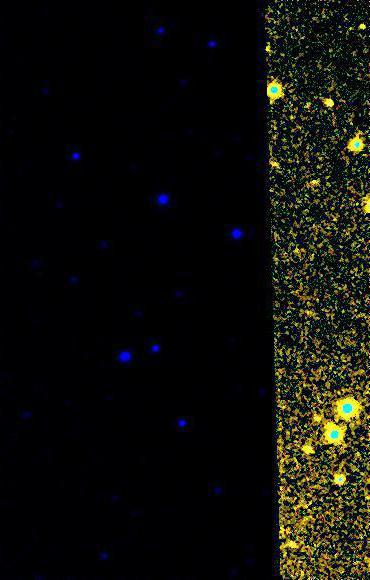star: (353, 189, 370, 219)
